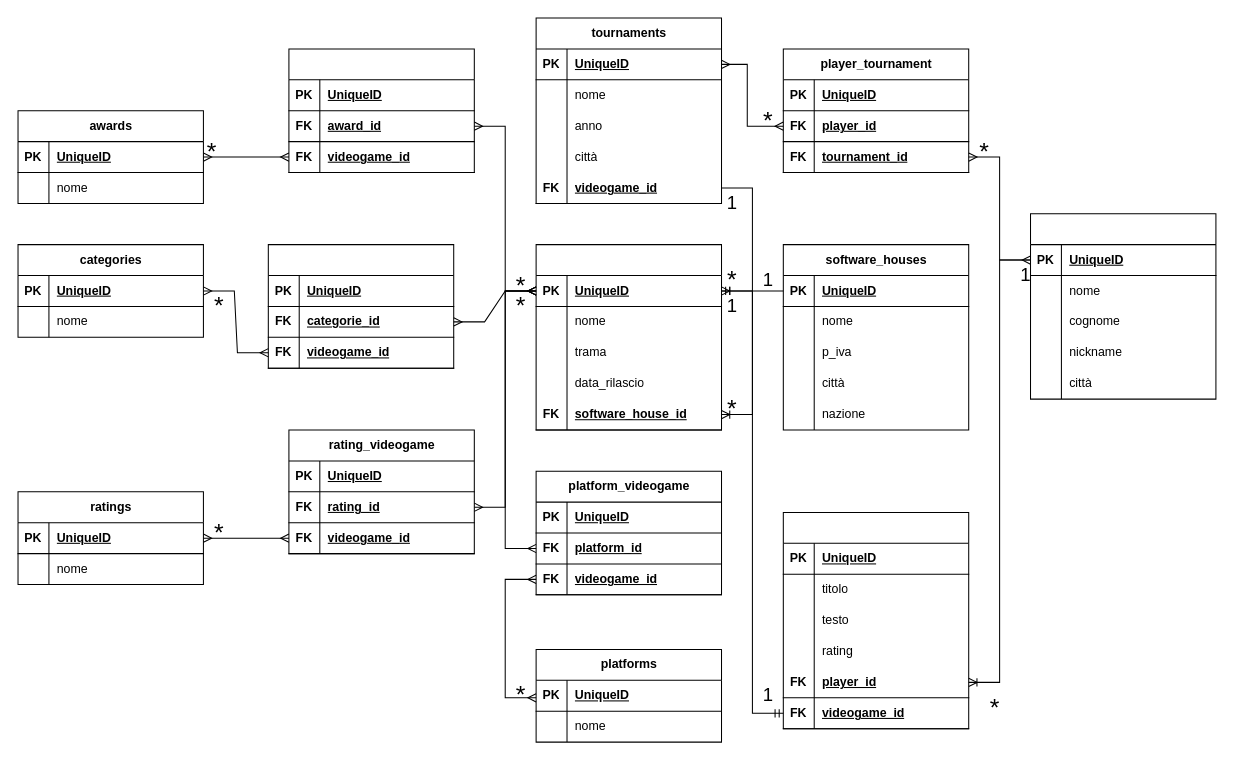
Some shapes in this 1234 by 760 pixel diagram are drawn without their labels. Here are the shapes that lost their labels. From the top down, the box of each, then its label:
(288, 48, 474, 173): award_videogame
(267, 244, 454, 368): categorie_videogame
(1029, 213, 1216, 399): players
(535, 244, 722, 430): videogames
(782, 511, 969, 729): reviews
